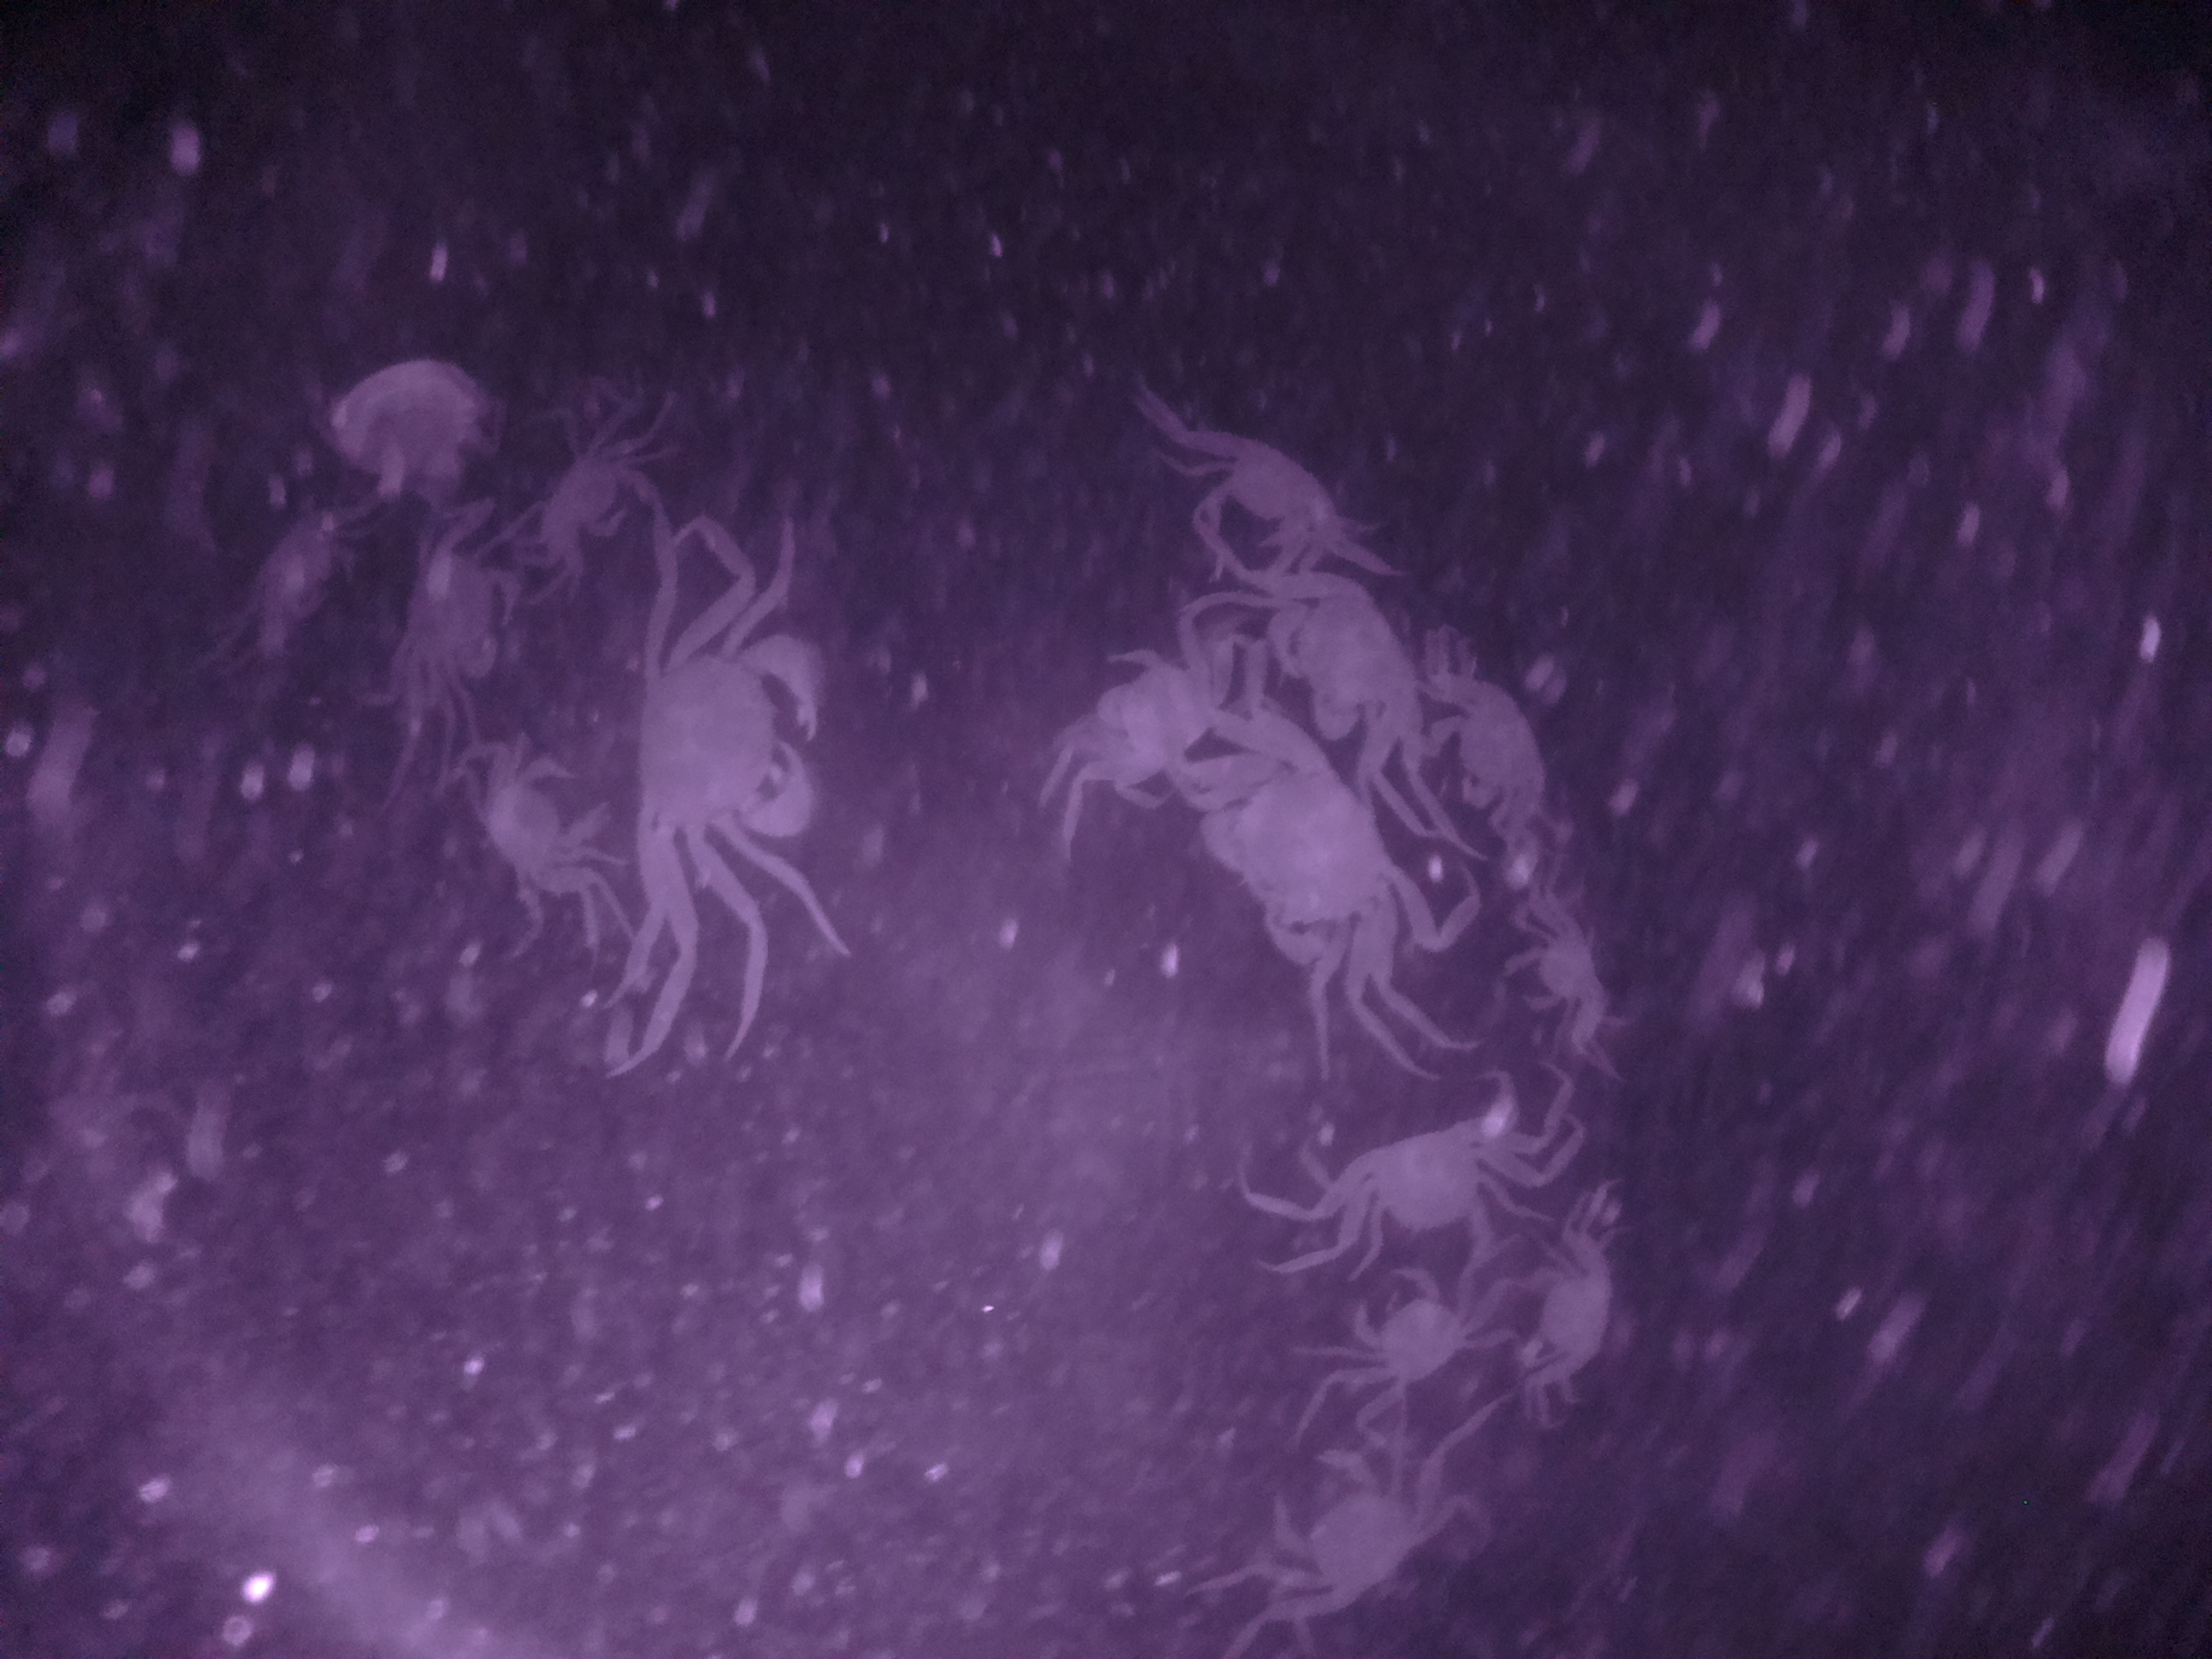Crab: (1184, 714, 1425, 1009), (622, 612, 824, 903), (1310, 1093, 1557, 1265), (1251, 1432, 1449, 1638), (1177, 403, 1357, 579), (453, 739, 611, 918), (1416, 666, 1576, 828), (1341, 1258, 1493, 1415), (402, 537, 536, 706), (1493, 906, 1627, 1040)
